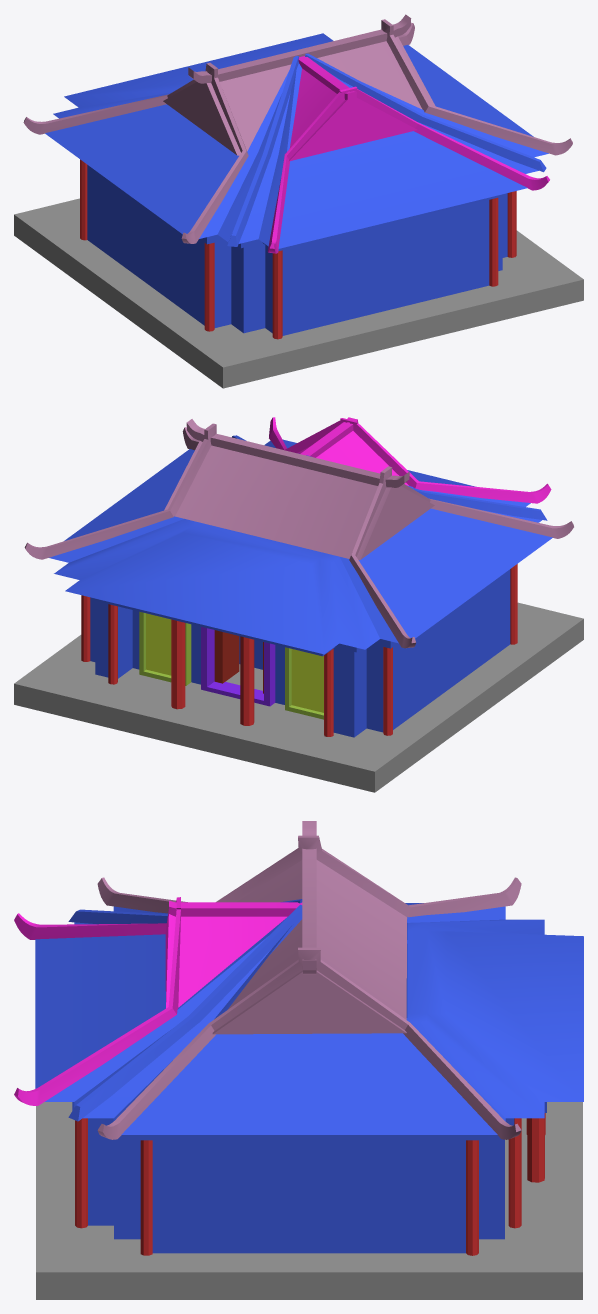
The picture shows the model from 3 angles, top to bottom: view 1: azimuth 30°, elevation 25°; view 2: azimuth 150°, elevation 25°; view 3: azimuth 270°, elevation 25°; orthographic projection. The views are drawn at different scales.
Visible parts, largest first — view 1: 主體, Box001, 屋頂1, 屋頂2, 柱子; view 2: 主體, Box001, 屋頂1, 柱子, 屋頂2, 門框, 門(左)001, 門(右)001, 門(右), 門框002, 門框001; view 3: 主體, Box001, 屋頂1, 屋頂2, 柱子.
Boxes of the visible parts, x1,y1,x2,y2 form: 主體: [45, 33, 548, 335]; Box001: [14, 198, 583, 388]; 屋頂1: [23, 14, 572, 243]; 屋頂2: [267, 56, 549, 253]; 柱子: [80, 159, 516, 339]; 主體: [49, 435, 552, 737]; Box001: [14, 602, 583, 792]; 屋頂1: [24, 419, 573, 648]; 柱子: [81, 564, 517, 736]; 屋頂2: [269, 417, 551, 503]; 門框: [201, 626, 275, 706]; 門(左)001: [291, 649, 323, 712]; 門(右)001: [146, 613, 171, 675]; 門(右): [214, 630, 239, 683]; 門框002: [139, 611, 191, 685]; 門框001: [285, 647, 323, 719]; 主體: [35, 899, 583, 1253]; Box001: [36, 1102, 582, 1299]; 屋頂1: [97, 821, 521, 1139]; 屋頂2: [14, 897, 302, 1105]; 柱子: [75, 1113, 545, 1255].
Bounding box in the file's own units: 238 × 131 × 229.
